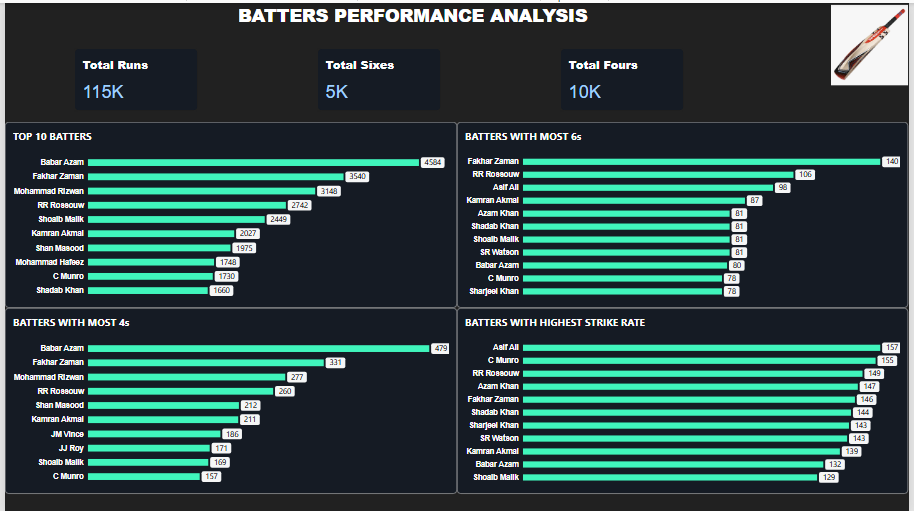

This screenshot's page, from the dashboard's own definition file:
{"tool":"powerbi","page":{"name":"Batting Analysis","canvas":[1920,1080],"ordinal":2},"visuals":[{"type":"textbox","box":[495.4,0,871.7,97.8],"z":0},{"type":"cardVisual","fields":{"Data":["PSL_ball_by_ball_merged.Total Runs"]},"box":[148.8,97.8,260,130],"z":1},{"type":"cardVisual","fields":{"Data":["PSL_ball_by_ball_merged.Total Sixes"]},"box":[665.4,97.8,260,130],"z":2},{"type":"cardVisual","fields":{"Data":["PSL_ball_by_ball_merged.Total Fours"]},"box":[1182,97.8,260,130],"z":3},{"type":"clusteredBarChart","title":"TOP 10 BATTERS","fields":{"Category":["PSL_players.player"],"Y":["PSL_ball_by_ball_merged.Total Runs"]},"box":[0,253,960.9,395.4],"z":4},{"type":"clusteredBarChart","title":"BATTERS WITH MOST 6s","fields":{"Category":["PSL_players.player"],"Y":["Sum(PSL_players.sixes)"]},"box":[960.9,253,958.8,395.4],"z":5},{"type":"clusteredBarChart","title":"BATTERS WITH MOST 4s","fields":{"Category":["PSL_players.player"],"Y":["Sum(PSL_players.fours)"]},"box":[0,648.4,960.9,395.4],"z":6},{"type":"clusteredBarChart","title":"BATTERS WITH HIGHEST STRIKE RATE","fields":{"Category":["PSL_players.player"],"Y":["PSL_ball_by_ball_merged.Strike Rate"]},"box":[960.9,648.4,958.8,395.4],"z":7},{"type":"image","box":[1756.1,0,163.7,178.6],"z":8}]}

Visuals, with their boxes in screenshot pixels (x1, y1, x2, y2), scaled from the page's 1920x1080 canvas onto the 914x511 screenshot:
textbox: <box>236,0,651,46</box>
cardVisual - PSL_ball_by_ball_merged.Total Runs: <box>71,46,195,108</box>
cardVisual - PSL_ball_by_ball_merged.Total Sixes: <box>317,46,441,108</box>
cardVisual - PSL_ball_by_ball_merged.Total Fours: <box>563,46,686,108</box>
"TOP 10 BATTERS" clusteredBarChart: <box>0,120,457,307</box>
"BATTERS WITH MOST 6s" clusteredBarChart: <box>457,120,913,307</box>
"BATTERS WITH MOST 4s" clusteredBarChart: <box>0,307,457,494</box>
"BATTERS WITH HIGHEST STRIKE RATE" clusteredBarChart: <box>457,307,913,494</box>
image: <box>836,0,913,85</box>
